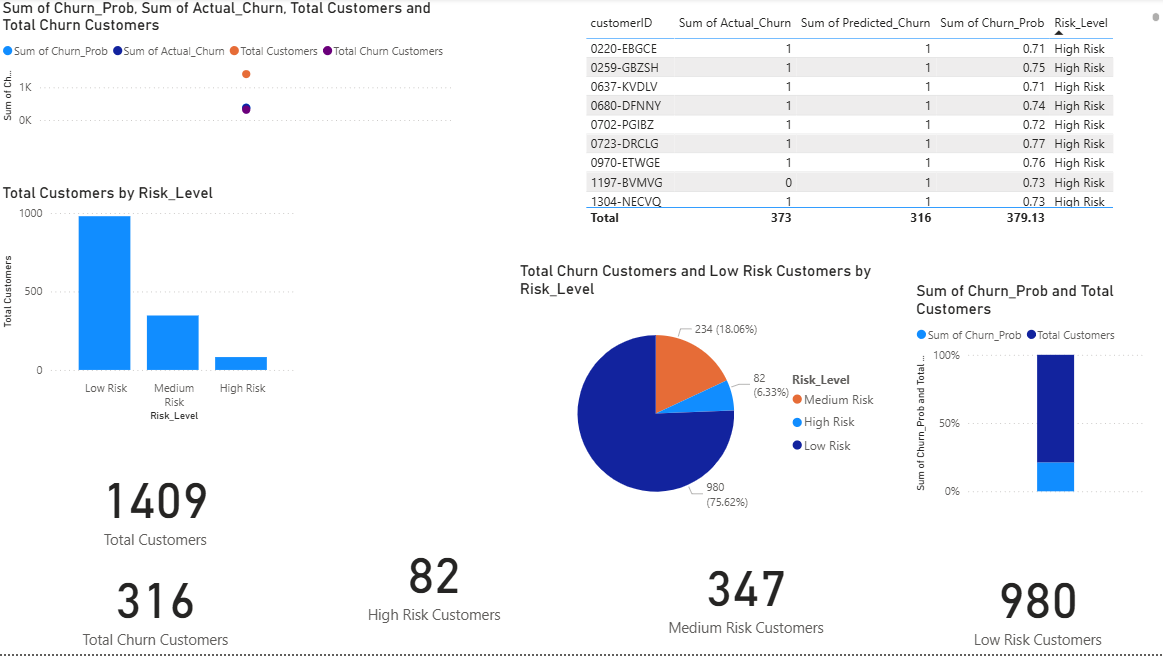

What the dashboard file says about the page in this screenshot:
{"tool":"powerbi","page":{"name":"Page 1","canvas":[1280,720],"ordinal":0},"visuals":[{"type":"card","fields":{"Values":["churn_predictions_with_risk.Total Customers"]},"box":[0,500.9,345.8,109.8],"z":0},{"type":"card","fields":{"Values":["churn_predictions_with_risk.Total Churn Customers"]},"box":[0,610.6,345.8,109.8],"z":1000},{"type":"card","fields":{"Values":["churn_predictions_with_risk.High Risk Customers"]},"box":[275.8,555.7,406.2,164.7],"z":2000},{"type":"card","fields":{"Values":["churn_predictions_with_risk.Medium Risk Customers"]},"box":[639.5,584.6,363.6,135.8],"z":3000},{"type":"card","fields":{"Values":["churn_predictions_with_risk.Low Risk Customers"]},"box":[1003.1,610.6,277.2,109.8],"z":4000},{"type":"pieChart","fields":{"Category":["churn_predictions_with_risk.Risk_Level"],"Y":["churn_predictions_with_risk.Total Churn Customers","churn_predictions_with_risk.Low Risk Customers"]},"box":[568.1,289.5,407.5,295],"z":5000},{"type":"lineChart","fields":{"Y":["Sum(churn_predictions_with_risk.Churn_Prob)","Sum(churn_predictions_with_risk.Actual_Churn)","churn_predictions_with_risk.Total Customers","churn_predictions_with_risk.Total Churn Customers"]},"box":[0,0,503.6,148.2],"z":6000},{"type":"clusteredColumnChart","fields":{"Category":["churn_predictions_with_risk.Risk_Level"],"Y":["churn_predictions_with_risk.Total Customers"]},"box":[0,203.1,333.4,266.2],"z":7000},{"type":"hundredPercentStackedColumnChart","fields":{"Y":["Sum(churn_predictions_with_risk.Churn_Prob)","churn_predictions_with_risk.Total Customers"]},"box":[1003.1,311.5,260.7,244.3],"z":8000},{"type":"tableEx","fields":{"Values":["churn_predictions_with_risk.customerID","Sum(churn_predictions_with_risk.Actual_Churn)","Sum(churn_predictions_with_risk.Predicted_Churn)","Sum(churn_predictions_with_risk.Churn_Prob)","churn_predictions_with_risk.Risk_Level"]},"box":[639.5,11,640.8,244.3],"z":9000}]}

Visuals, with their boxes in screenshot pixels (x1, y1, x2, y2), scaled from the page's 1280x720 canvas onto the 1163x656 screenshot:
card - churn_predictions_with_risk.Total Customers: 0:456:314:556
card - churn_predictions_with_risk.Total Churn Customers: 0:556:314:655
card - churn_predictions_with_risk.High Risk Customers: 251:506:620:655
card - churn_predictions_with_risk.Medium Risk Customers: 581:533:911:655
card - churn_predictions_with_risk.Low Risk Customers: 911:556:1162:655
pieChart - churn_predictions_with_risk.Risk_Level x churn_predictions_with_risk.Total Churn Customers: 516:264:886:533
lineChart - Sum(churn_predictions_with_risk.Churn_Prob) x Sum(churn_predictions_with_risk.Actual_Churn): 0:0:458:135
clusteredColumnChart - churn_predictions_with_risk.Risk_Level x churn_predictions_with_risk.Total Customers: 0:185:303:428
hundredPercentStackedColumnChart - Sum(churn_predictions_with_risk.Churn_Prob) x churn_predictions_with_risk.Total Customers: 911:284:1148:506
tableEx - churn_predictions_with_risk.customerID x Sum(churn_predictions_with_risk.Actual_Churn): 581:10:1162:233
